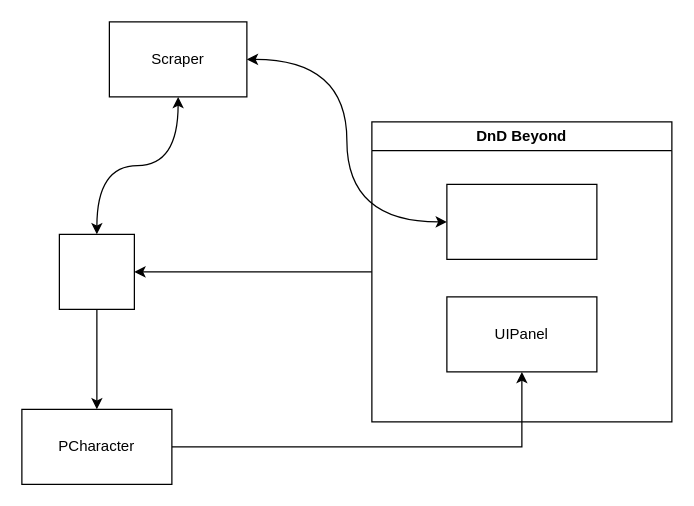
Some shapes in this 694 by 506 pixel diagram are drawn without their labels. Here are the shapes that lost their labels. From the top down, the box of each, then its label:
(446, 183, 597, 259): character_sheet
(58, 233, 134, 309): user script
